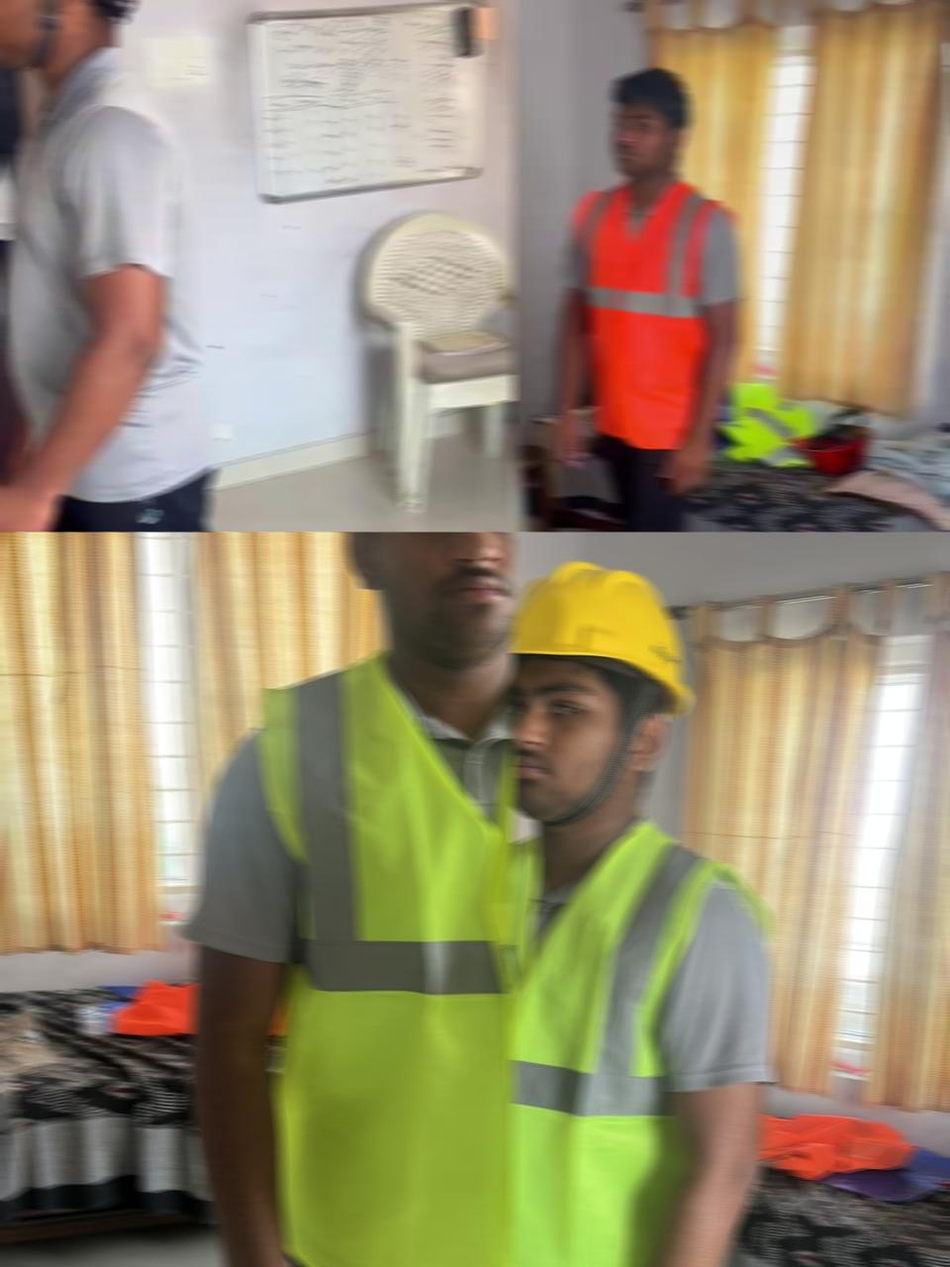Helmet: (511, 555, 693, 825)
No_Helmet: (340, 532, 515, 667), (605, 64, 694, 180)
Person: (178, 532, 515, 1267), (511, 555, 779, 1267), (0, 0, 259, 532), (547, 67, 748, 532)
Vest: (253, 648, 515, 1267), (511, 810, 773, 1267), (571, 175, 736, 453)
